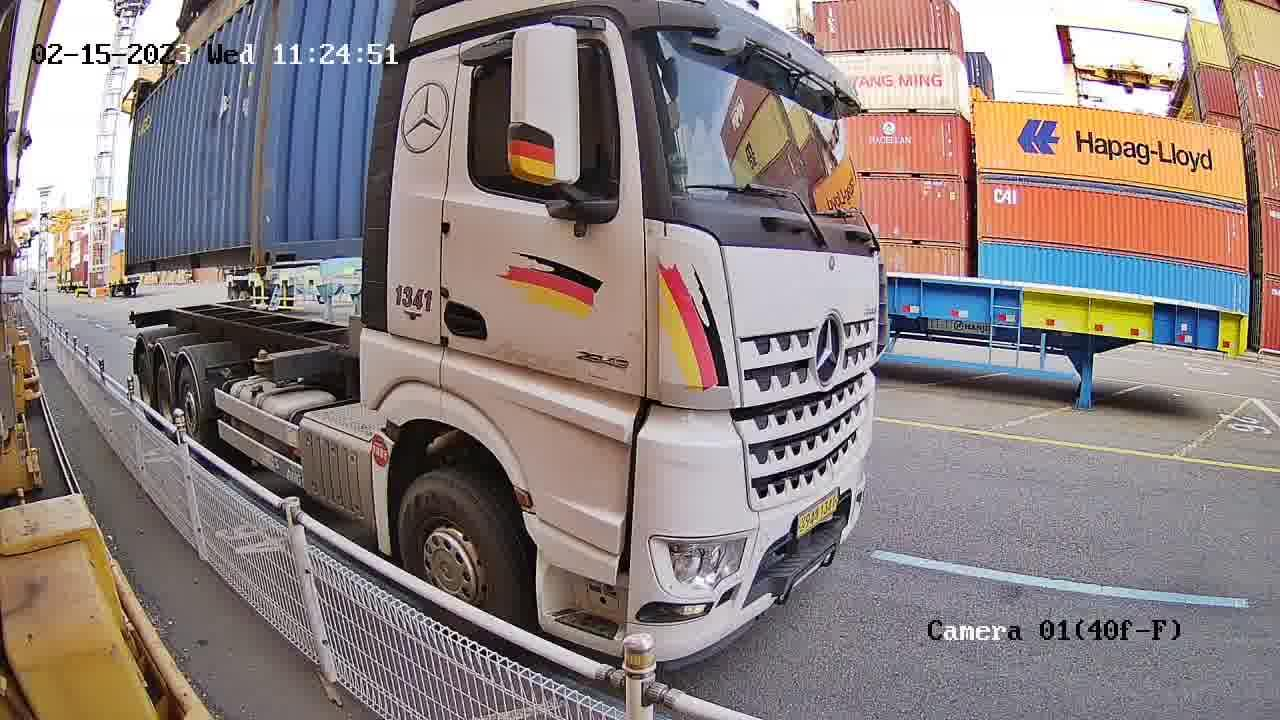Chassis: (258, 345, 349, 384)
Cone: (250, 343, 272, 371)
Hole_L: (256, 217, 310, 264)
Hole_R: (220, 222, 258, 267)
Tire: (396, 478, 518, 617), (171, 370, 198, 434), (153, 366, 171, 423), (140, 360, 149, 403)
